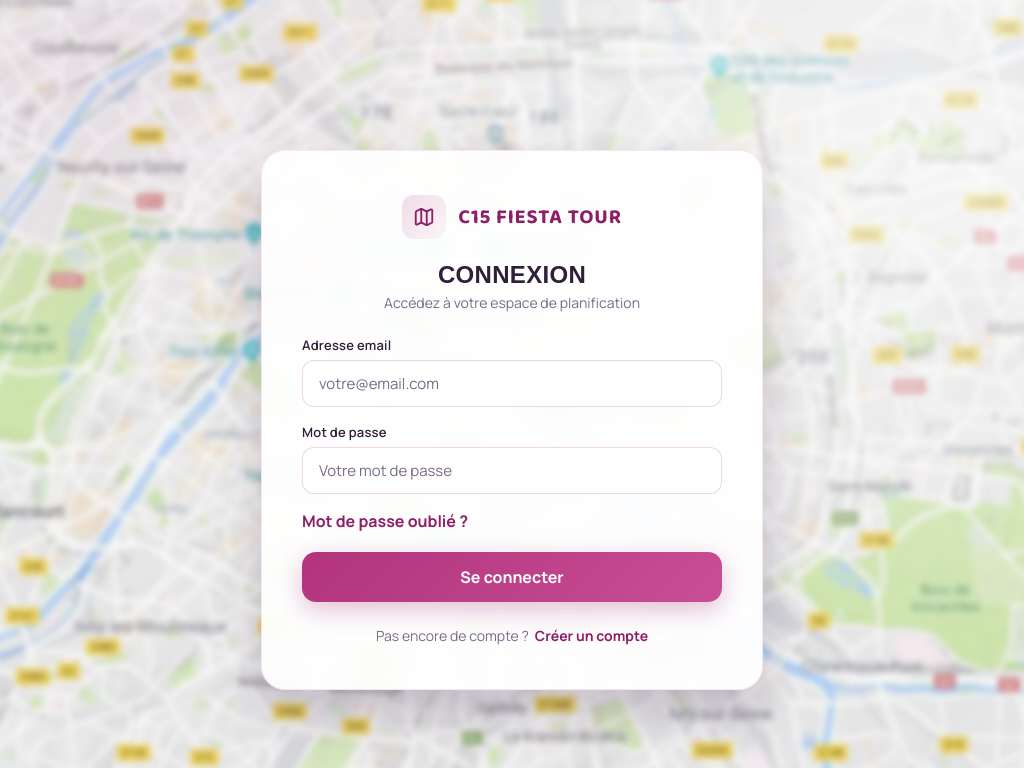
LoginPage › affiche une erreur si le serveur est inaccessible
Type "test@example.com" into the field labelled "Adresse email" at {"x": 512, "y": 384}, box left=302, top=360, right=722, bottom=407
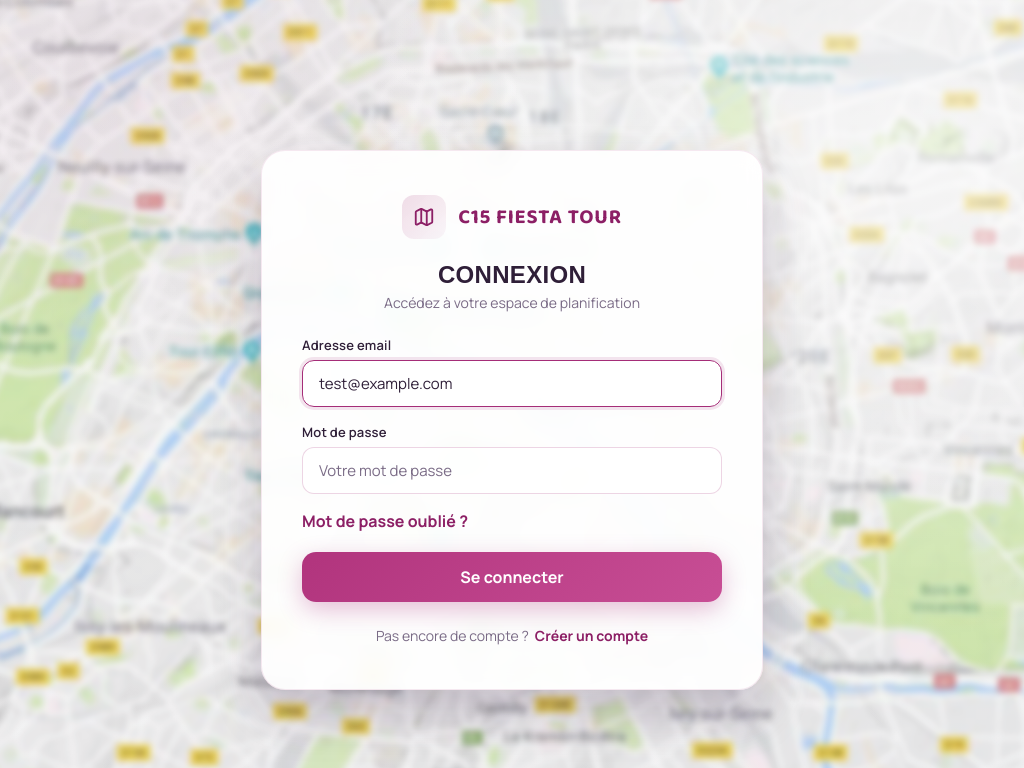
Type "password" into the password field labelled "Mot de passe" at {"x": 512, "y": 470}, box left=302, top=447, right=722, bottom=494
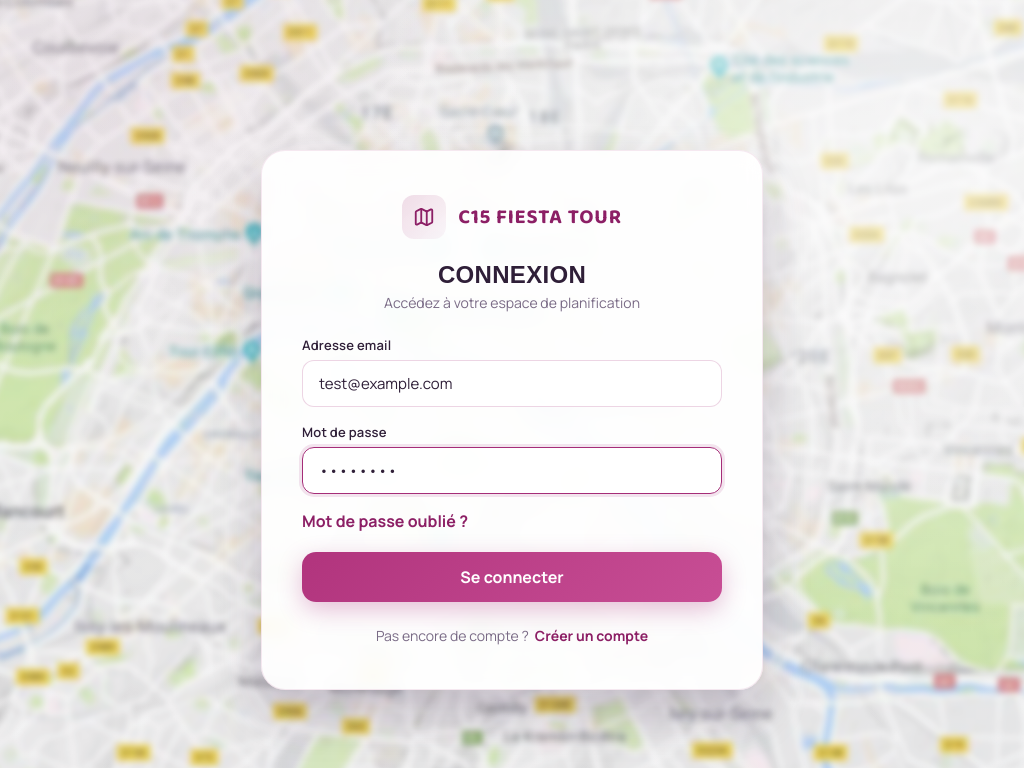
Click the button "Se connecter" at {"x": 512, "y": 577}, box left=302, top=552, right=722, bottom=602
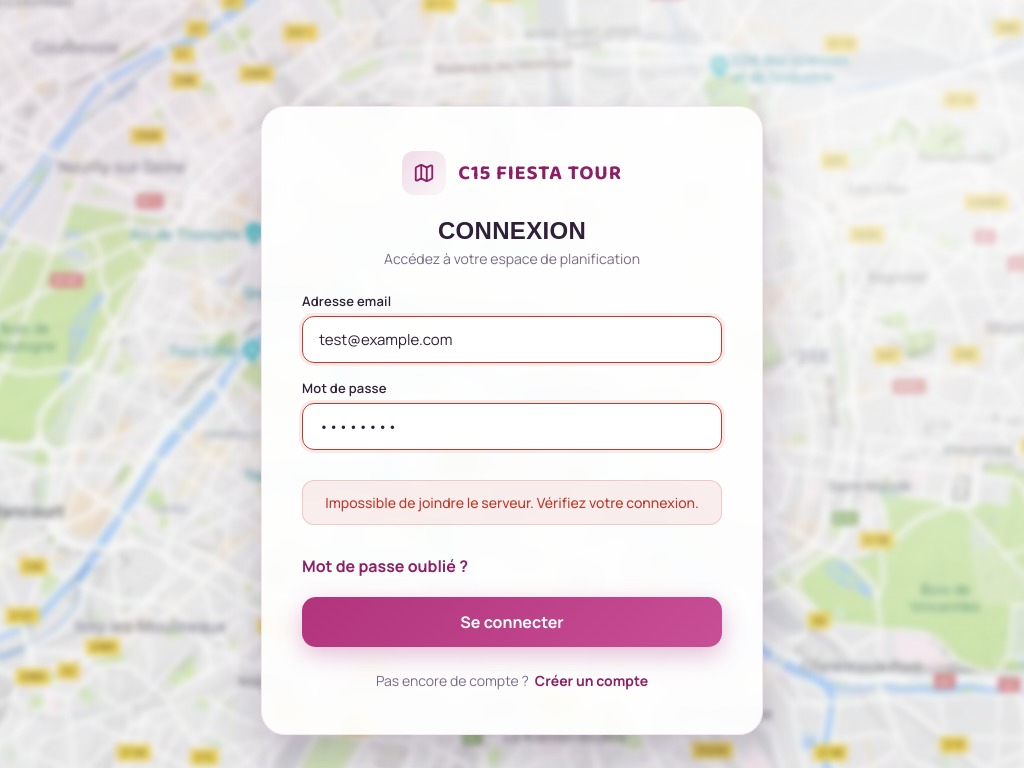
Now the text "Impossible de joindre le serveur. Vérifiez votre connexion." is shown, box left=302, top=480, right=722, bottom=524
